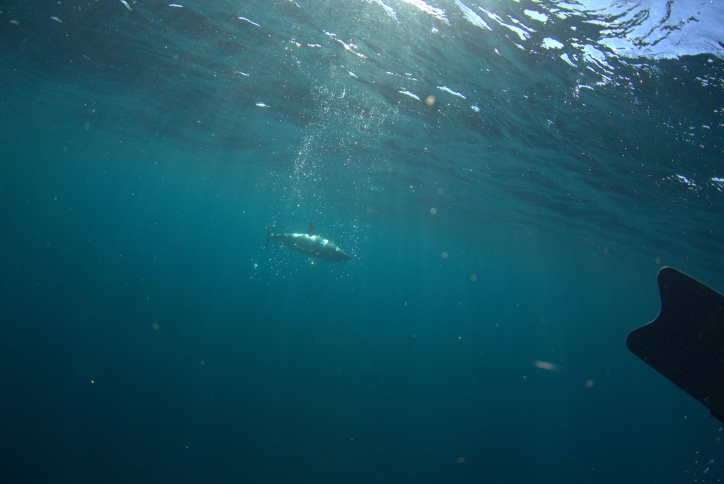Mako: (256, 219, 357, 271)
